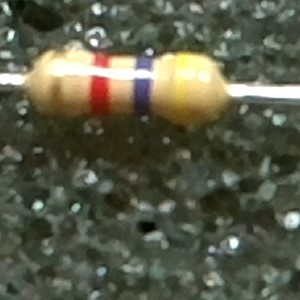gold_band: (46, 49, 72, 121)
red_band: (88, 51, 113, 118)
violet_band: (132, 53, 154, 118)
yellow_band: (172, 47, 196, 128)
